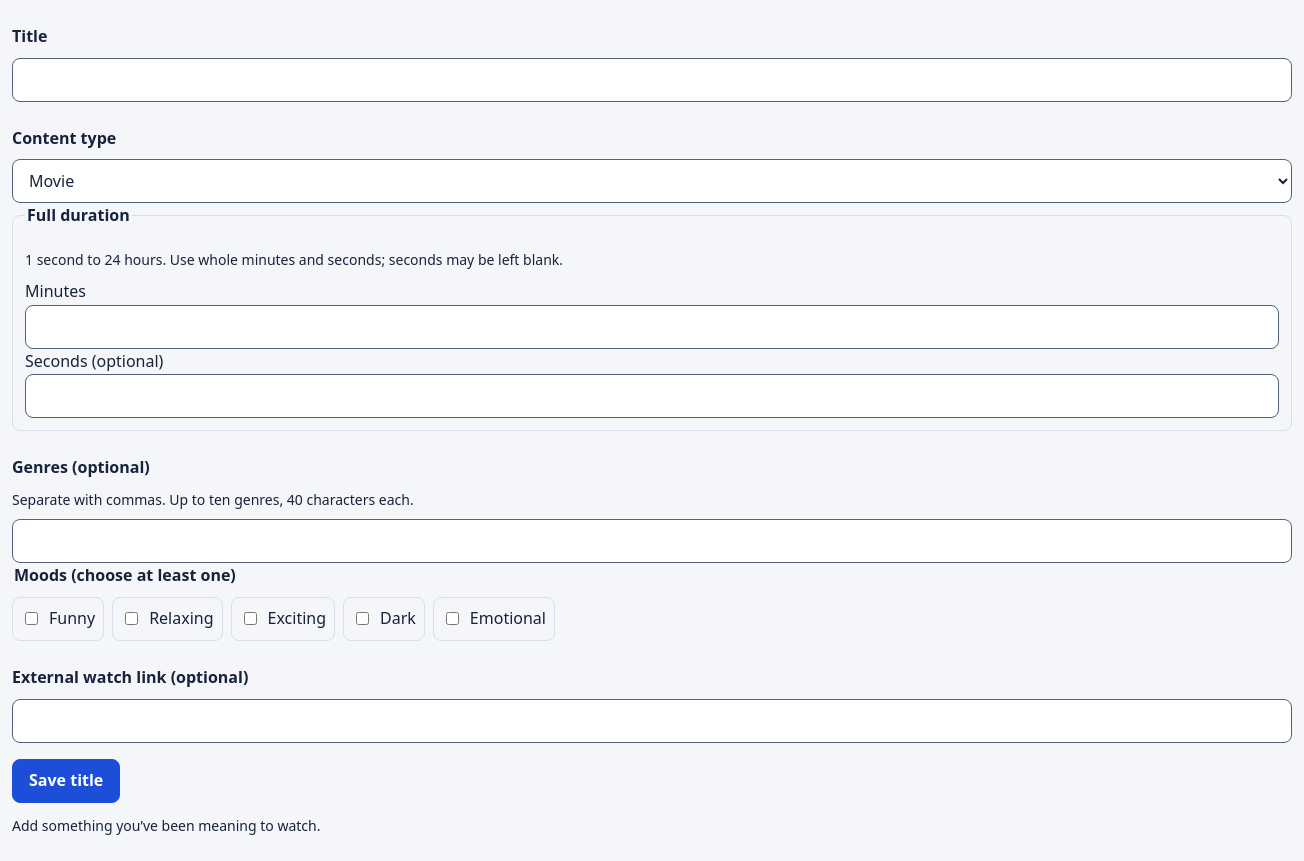
Test case: labels all fields and switches runtime/numbering for all four content types
Expected: the field labelled "Title" is shown, [12,58,1292,102]
Expected: the field labelled "Minutes" is shown, [25,305,1279,349]
Select "Series" in the dropdown labelled "Content type" at x=652, y=181, box [12,159,1292,203]
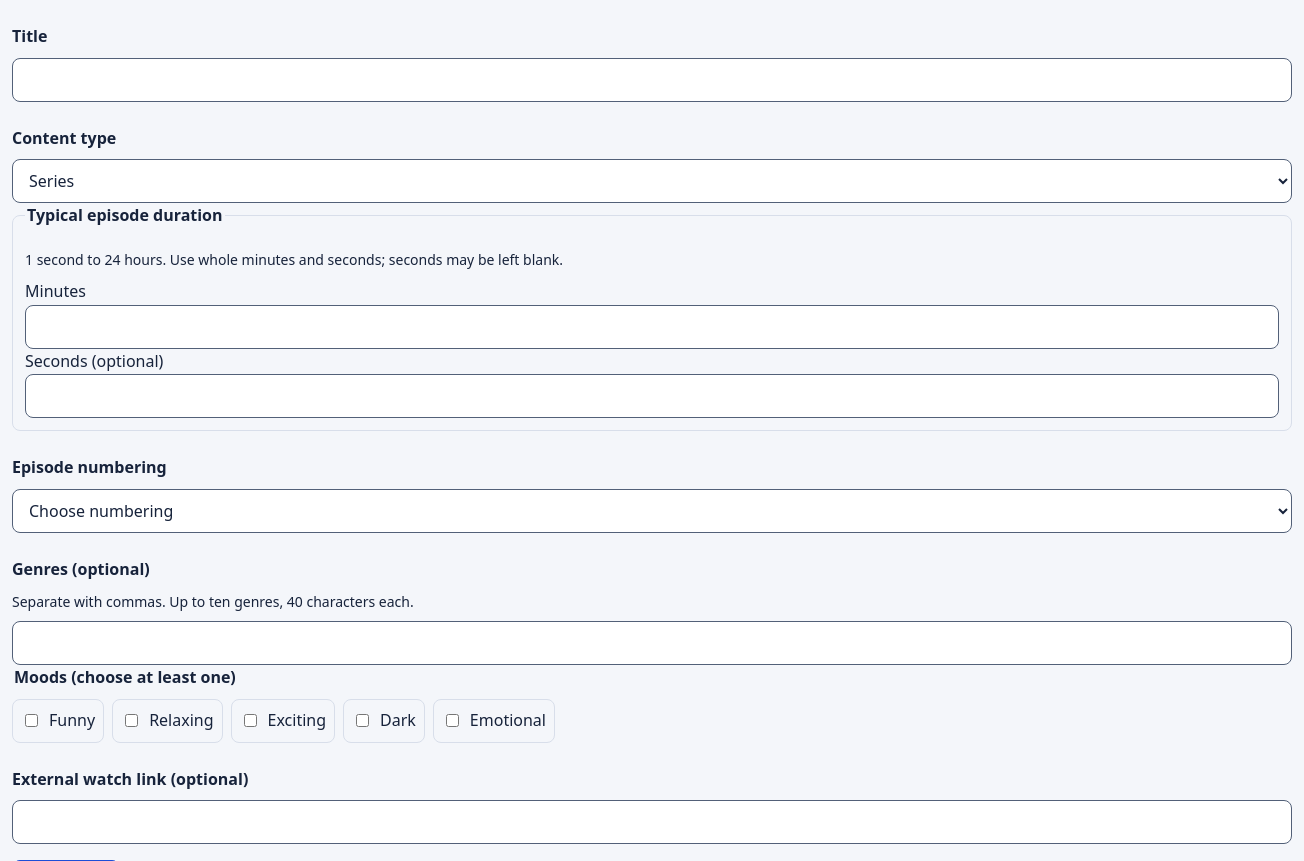
Expected: the element "Typical episode duration" is shown, [12,203,1292,431]
Expected: the dropdown labelled "Episode numbering" is shown, [12,489,1292,533]
Select "Anime" in the dropdown labelled "Content type" at x=652, y=181, box [12,159,1292,203]
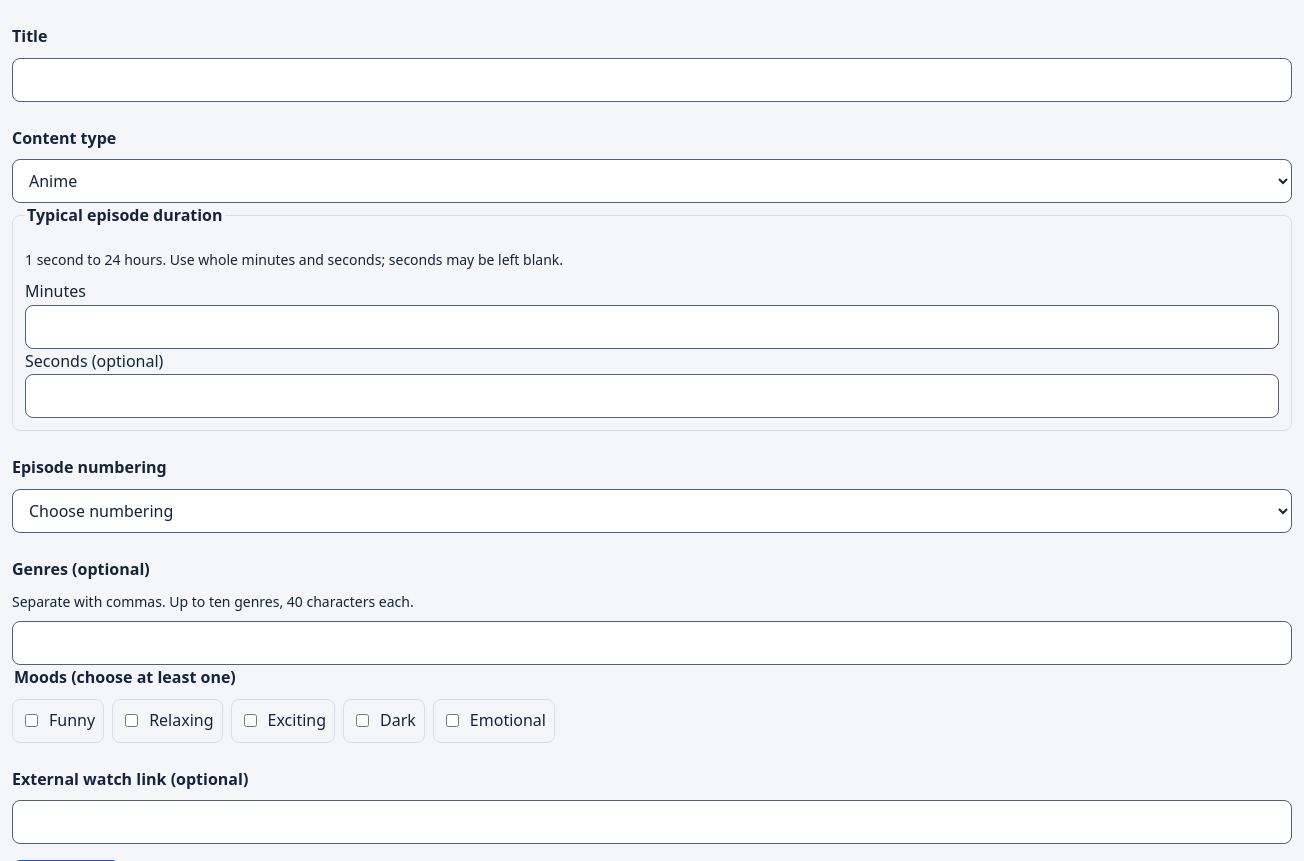
Expected: the element "Typical episode duration" is shown, [12,203,1292,431]
Expected: the dropdown labelled "Episode numbering" is shown, [12,489,1292,533]
Select "YouTube video" in the dropdown labelled "Content type" at x=652, y=181, box [12,159,1292,203]
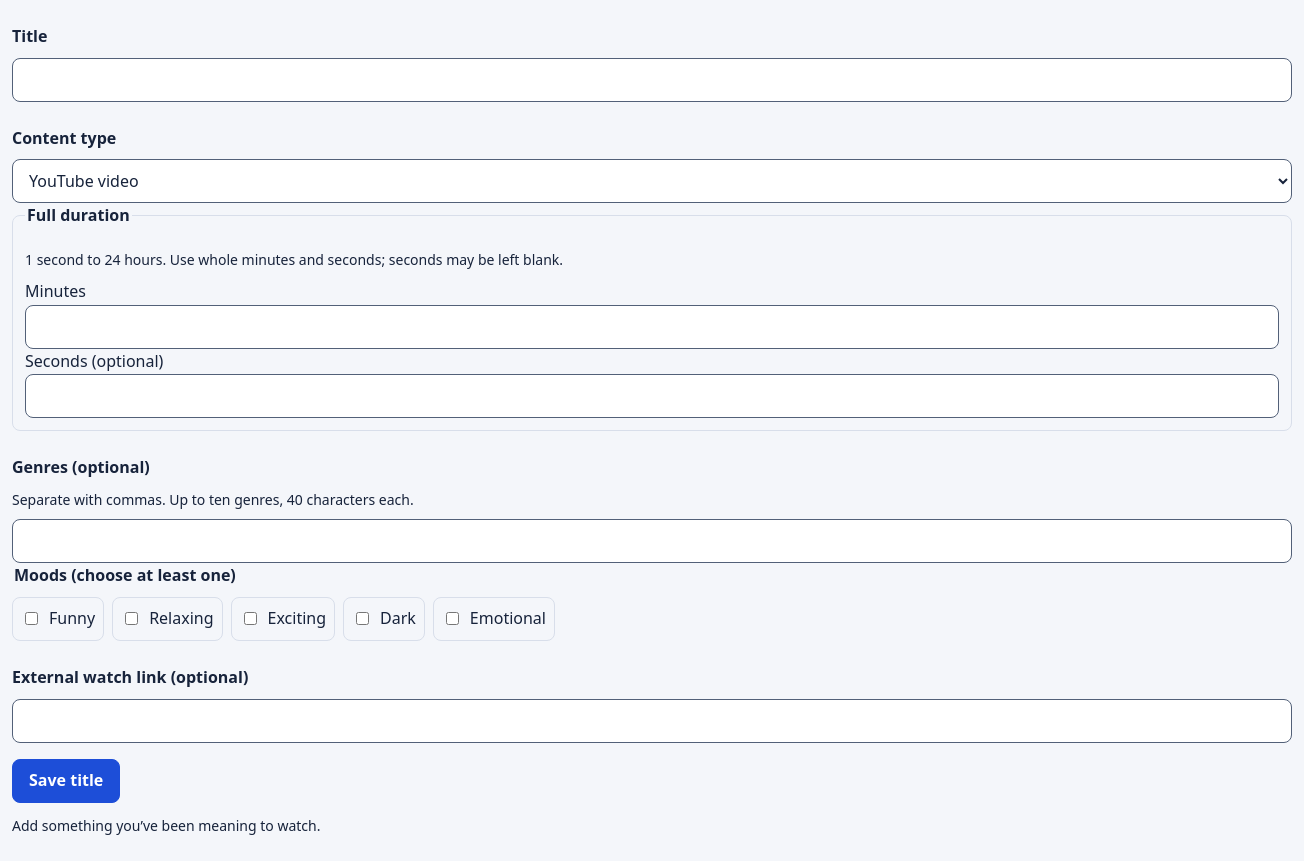
Expected: the element "Full duration" is shown, [12,203,1292,431]
Expected: the label labelled "Episode numbering" is gone
